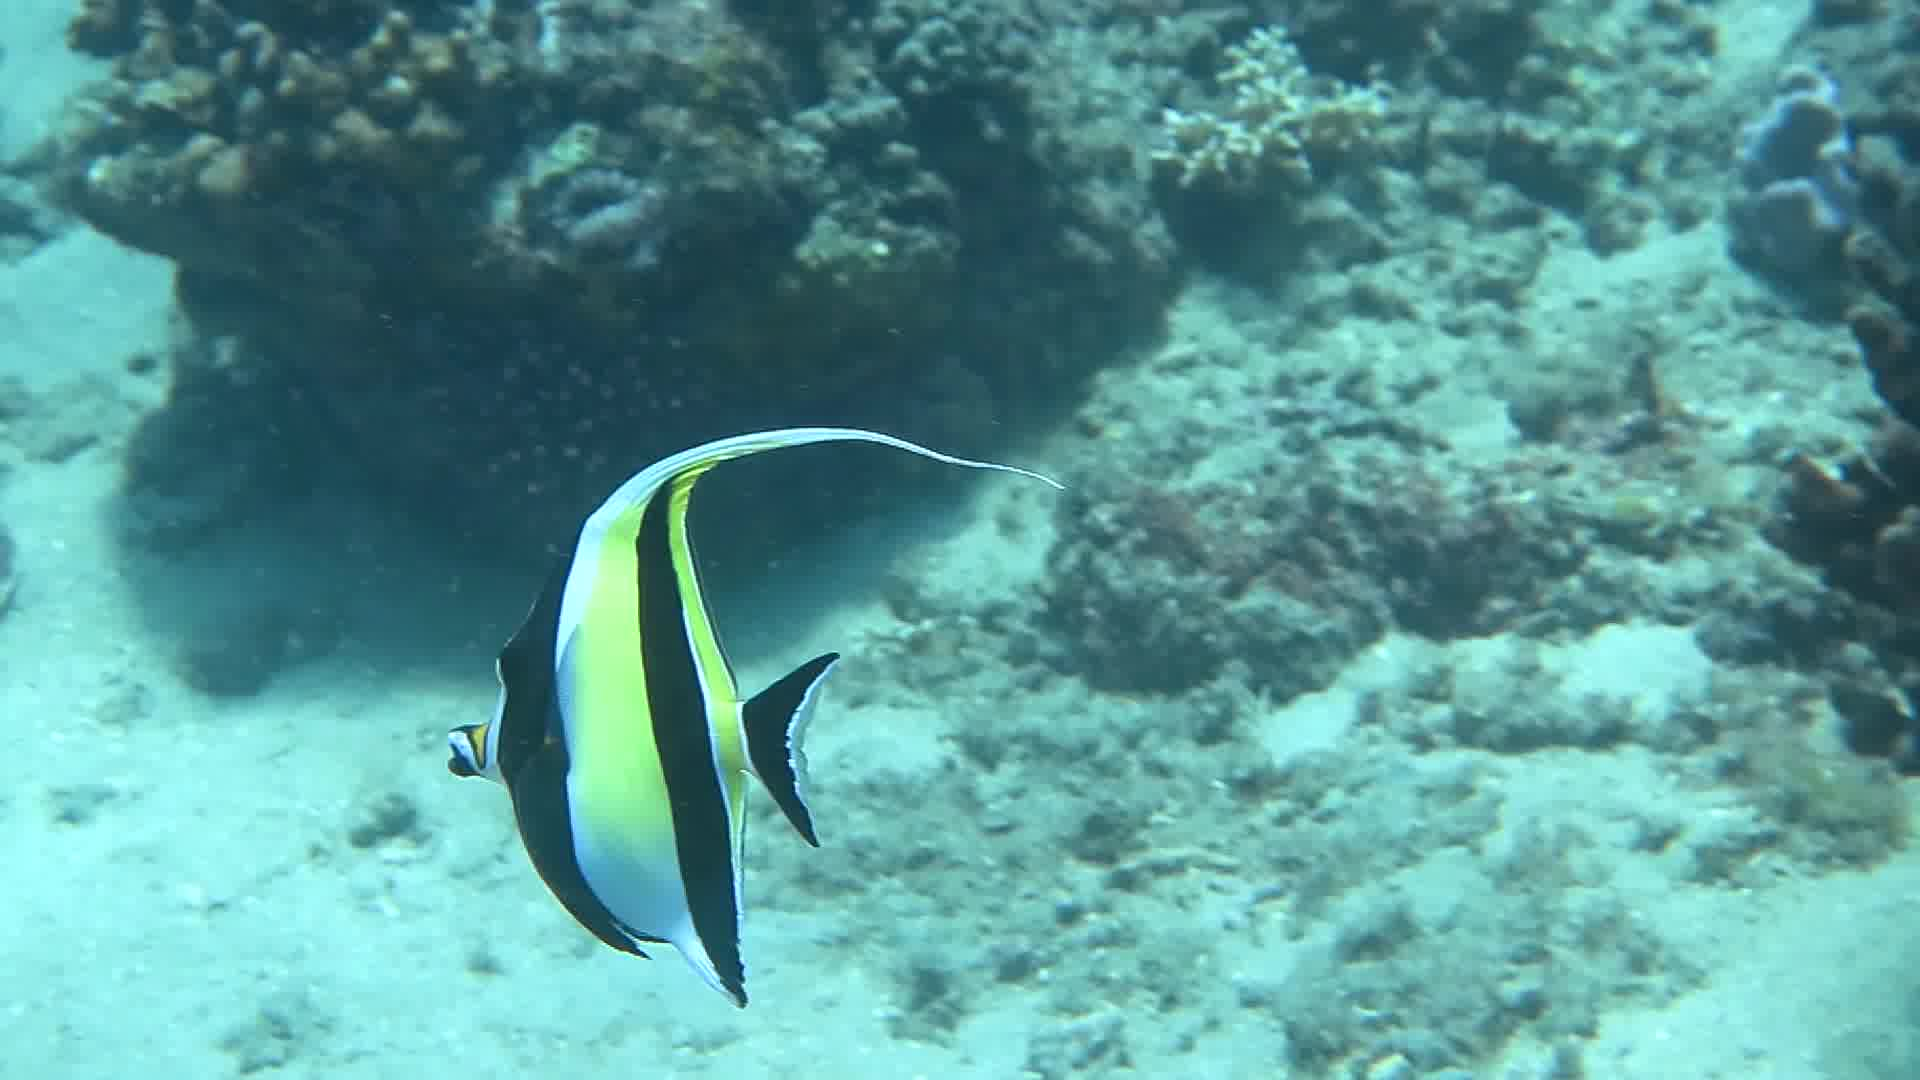Zanclus cornutus: (454, 446, 829, 1026)
